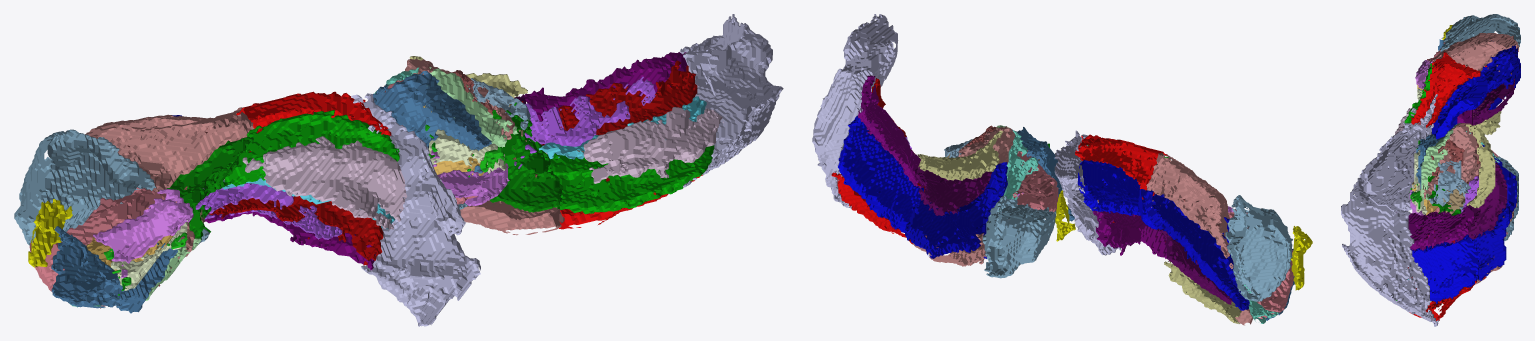
The model's file is hippoAmygLabels.glb.
3 views of the same model, side by side, from view 1: azimuth 30°, elevation 25°; view 2: azimuth 150°, elevation 25°; view 3: azimuth 270°, elevation 25° (orthographic). The views are drawn at different scales.
Visible parts, largest first — view 1: lh - HP_tail, rh - HP_tail, lh - fimbria, lh - Lateral-nucleus, lh - CA1-head, rh - fimbria, rh - CA3-body, lh - Corticoamygdaloid-transitio, rh - Corticoamygdaloid-transitio, lh - CA3-body, rh - CA3-head, rh - molecular_layer_HP-body (+20 smaller); view 2: rh - HP_tail, lh - Lateral-nucleus, rh - subiculum-body, rh - subiculum-head, rh - Lateral-nucleus, lh - CA1-head, lh - subiculum-head, lh - subiculum-body, lh - HP_tail, rh - presubiculum-body, lh - CA1-body, rh - presubiculum-head (+13 smaller); view 3: rh - HP_tail, lh - HP_tail, rh - subiculum-body, rh - presubiculum-body, lh - CA1-body, rh - subiculum-head, lh - CA1-head, lh - subiculum-body, rh - CA1-head, lh - Lateral-nucleus, rh - presubiculum-head, lh - subiculum-head (+18 smaller).
Part boxes in pixels (box(x1,y1,x2,y2)): lh - HP_tail: box(351, 93, 480, 326); rh - HP_tail: box(680, 14, 783, 187); lh - fimbria: box(242, 136, 407, 229); lh - Lateral-nucleus: box(14, 129, 155, 245); lh - CA1-head: box(85, 107, 254, 308); rh - fimbria: box(545, 107, 723, 183); rh - CA3-body: box(541, 145, 714, 214); lh - Corticoamygdaloid-transitio: box(51, 226, 177, 313); rh - Corticoamygdaloid-transitio: box(373, 71, 491, 173); lh - CA3-body: box(224, 110, 399, 186); rh - CA3-head: box(490, 102, 563, 212); rh - molecular_layer_HP-body: box(521, 60, 697, 181); rh - HP_tail: box(812, 14, 898, 208); lh - Lateral-nucleus: box(1225, 195, 1292, 301); rh - subiculum-body: box(838, 115, 924, 232); rh - subiculum-head: box(904, 162, 1007, 258); rh - Lateral-nucleus: box(982, 195, 1056, 278); lh - CA1-head: box(1146, 153, 1252, 325); lh - subiculum-head: box(1143, 190, 1249, 310); lh - subiculum-body: box(1077, 160, 1158, 229); lh - HP_tail: box(1054, 130, 1120, 255); rh - presubiculum-body: box(858, 75, 925, 188); lh - CA1-body: box(1075, 134, 1167, 195); rh - presubiculum-head: box(915, 167, 991, 215); rh - HP_tail: box(1341, 178, 1438, 326); lh - HP_tail: box(1354, 94, 1437, 214); rh - subiculum-body: box(1410, 234, 1479, 303); rh - presubiculum-body: box(1396, 206, 1473, 250); lh - CA1-body: box(1411, 52, 1487, 127); rh - subiculum-head: box(1471, 144, 1516, 280); lh - CA1-head: box(1433, 33, 1518, 71); lh - subiculum-body: box(1432, 71, 1487, 139); rh - CA1-head: box(1423, 123, 1516, 284); lh - Lateral-nucleus: box(1440, 14, 1520, 59); rh - presubiculum-head: box(1467, 160, 1507, 239); lh - subiculum-head: box(1480, 45, 1520, 109).
Size of the model in its own units: 95.67 by 32 by 30.67.
